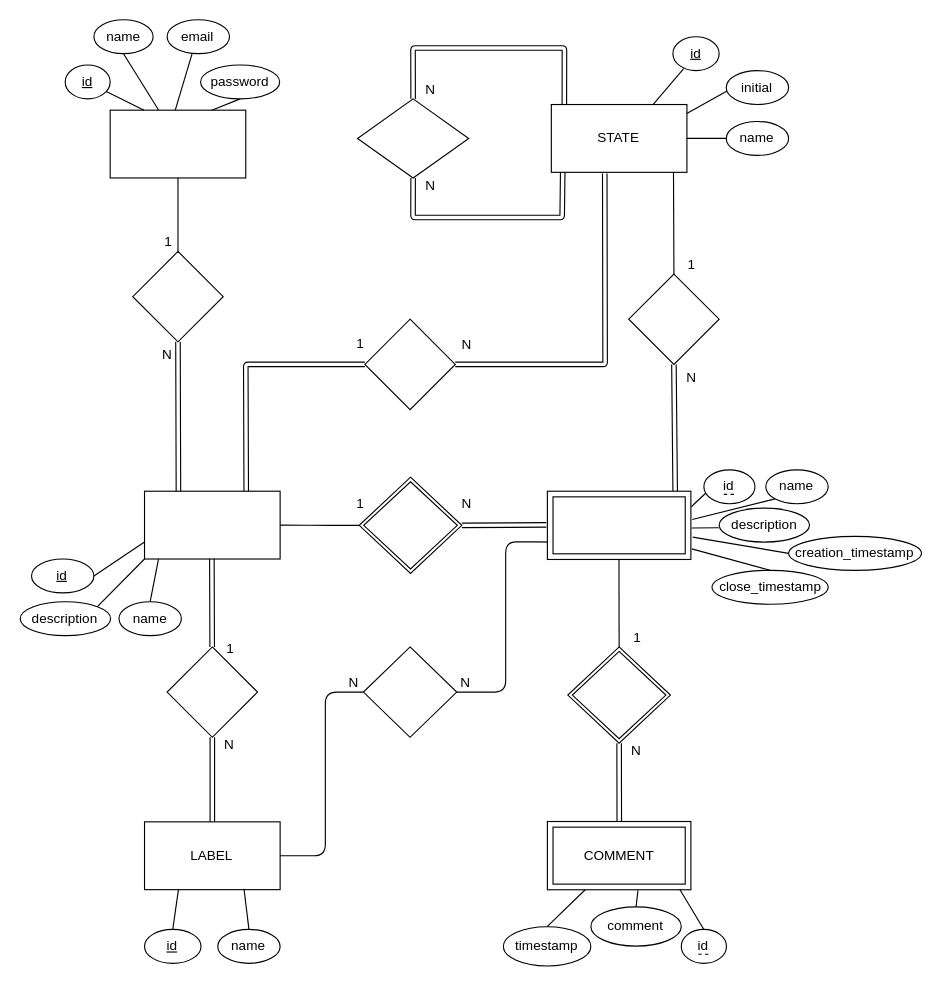
Some shapes in this 941 by 986 pixel diagram are drawn without their labels. The shapes that lost their labels are listed below. From the top down, each one's centre as x and y in pixels, then its label:
At point 177,143: "CUSTOMER".
At point 412,138: "STATE_ TRANSITION".
At point 211,524: "PROJECT".
At point 618,524: "ISSUE".
At point 409,691: "ISSUE_LABEL".
